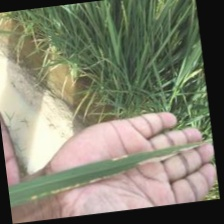Leaf_Blast: (25, 173, 141, 195), (107, 150, 147, 163)
